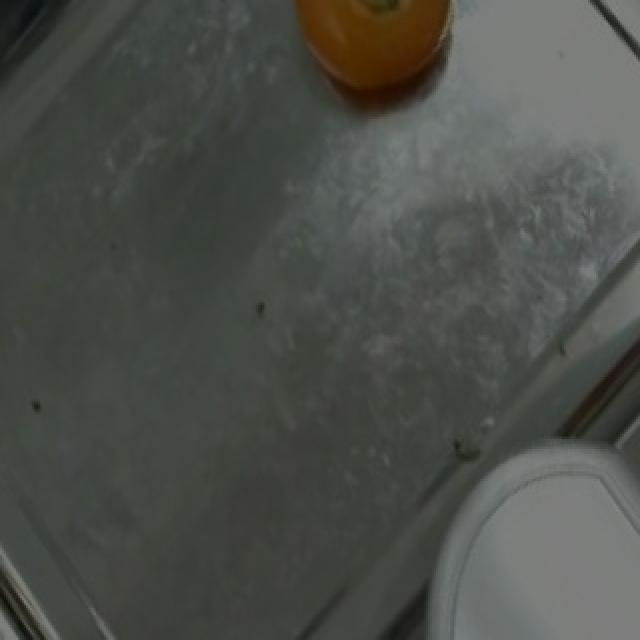Fruit: (444, 449, 640, 640), (256, 0, 486, 131)
